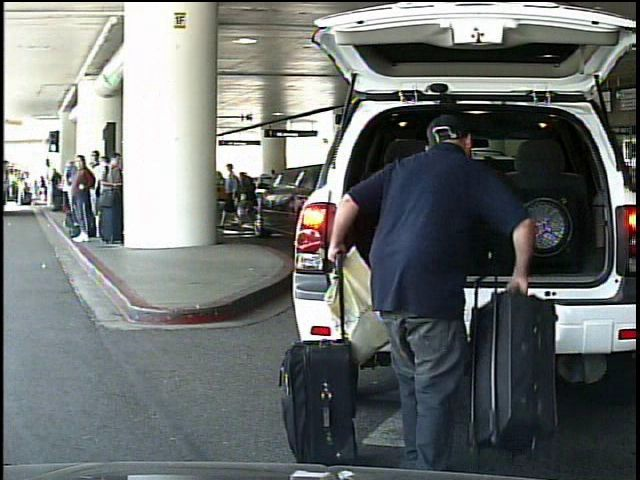person: (323, 109, 538, 464), (223, 162, 247, 237), (238, 165, 261, 232), (37, 174, 49, 202), (18, 176, 28, 207)
